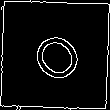O_SE: (22, 21, 88, 89)
